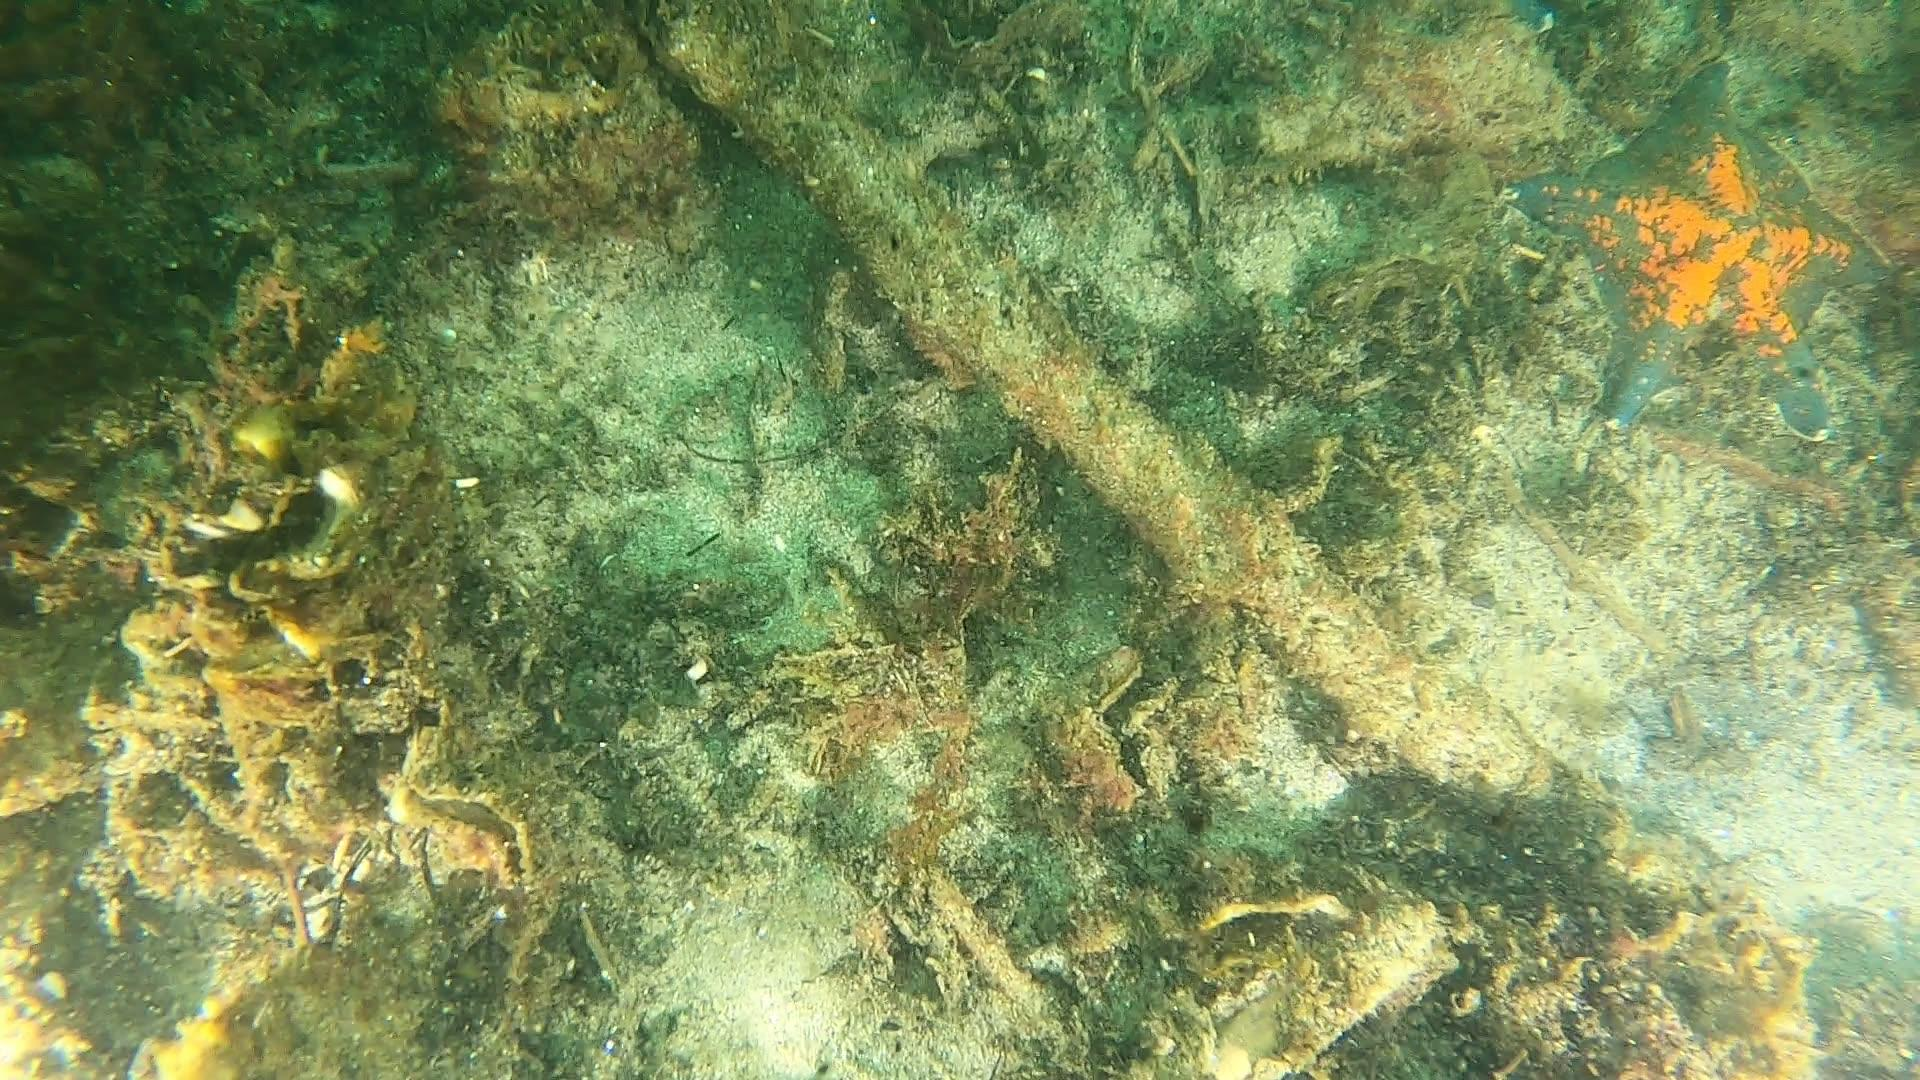rope: (644, 7, 1551, 818)
